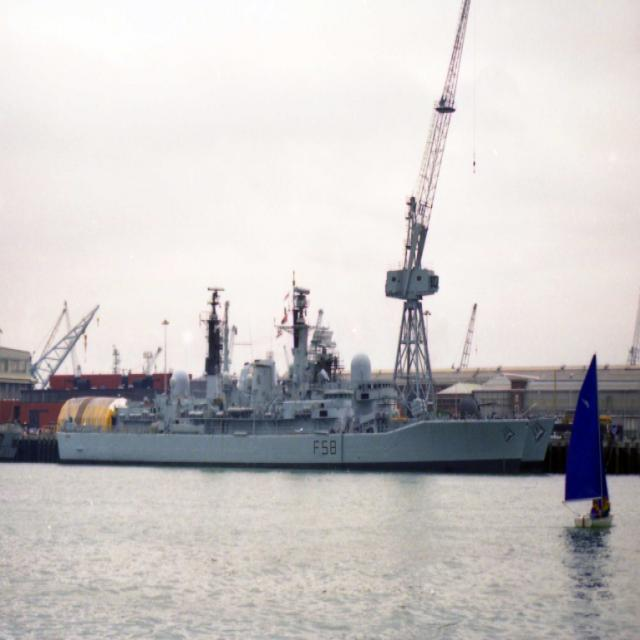Fragata: (51, 259, 565, 468)
